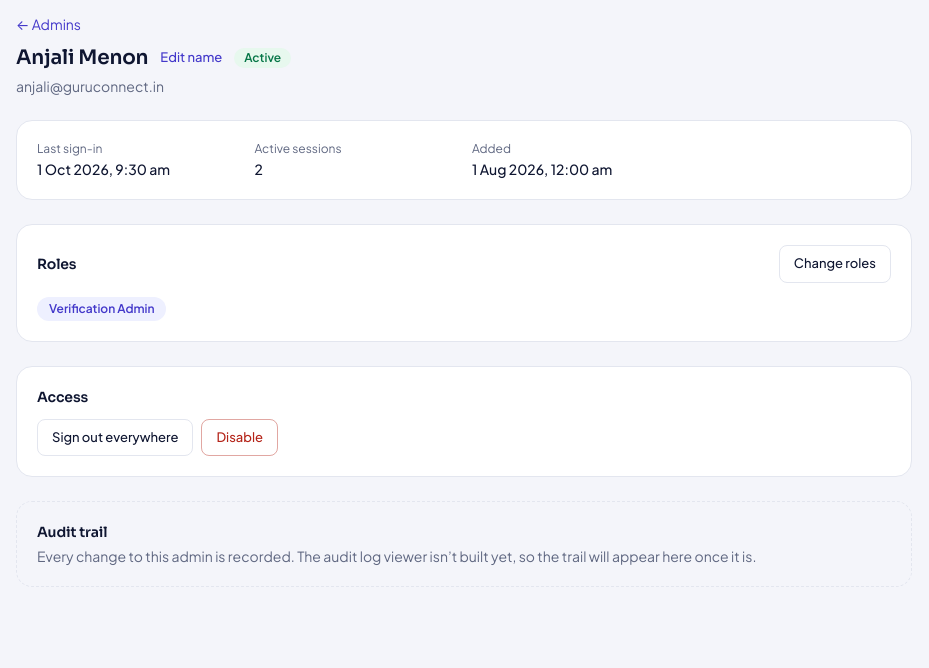
it: AdminDetailPage — actions › edits the name
The image size is (929, 668).
Click the button "Edit name" at point(191, 58), box [160,48,222,68]
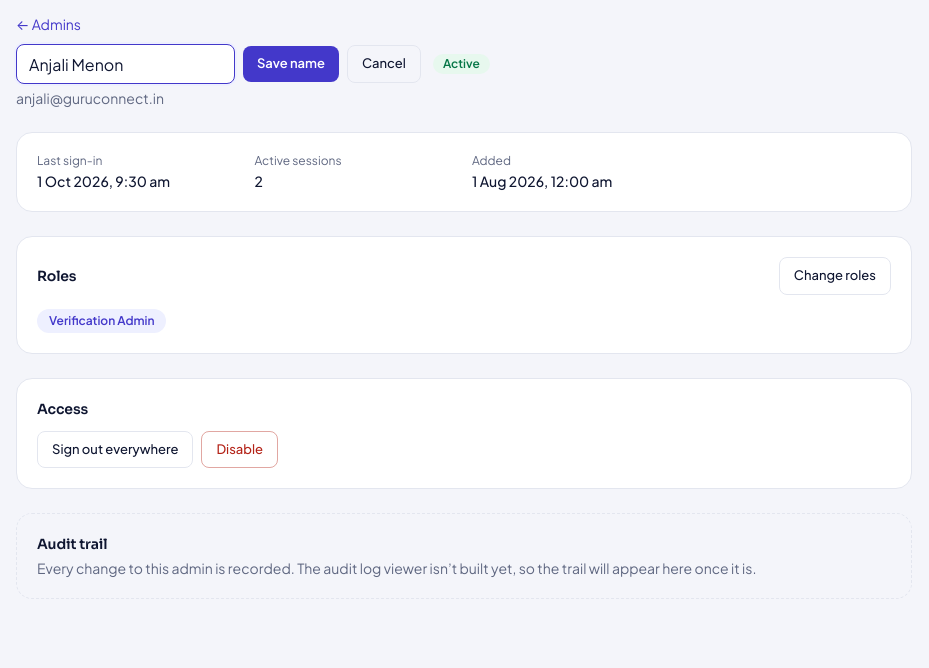
Replace the text in the field named "Full name" with "Anjali M. Menon" at point(126, 64), box [16,44,235,84]
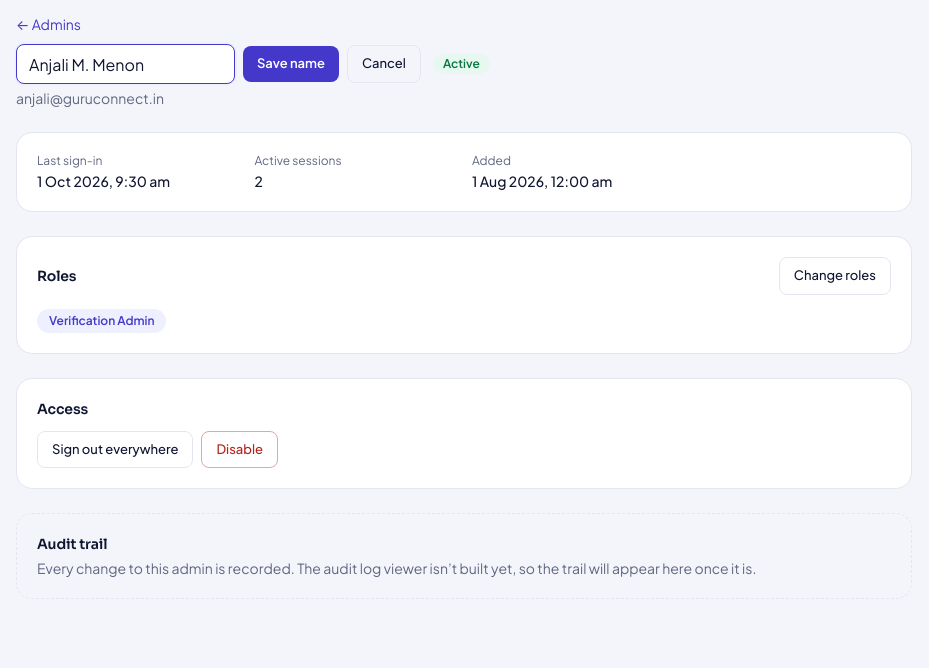
Click the button "Save name" at point(291, 64), box [243,46,339,82]
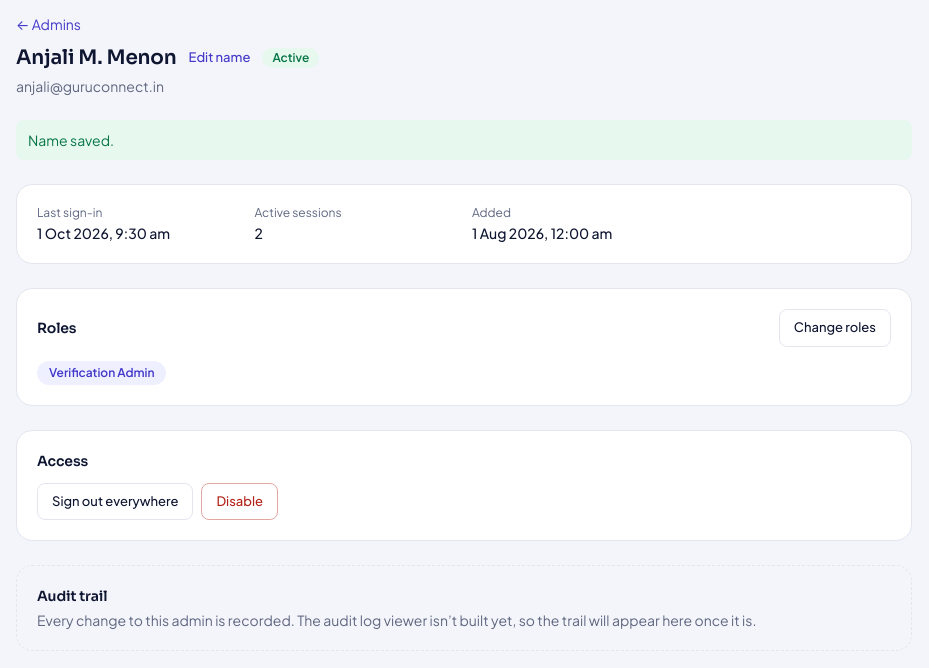
Expected: the heading "Anjali M. Menon" is shown, [16,44,176,72]
Expected: the message reads "Name saved.", [28,131,114,149]
